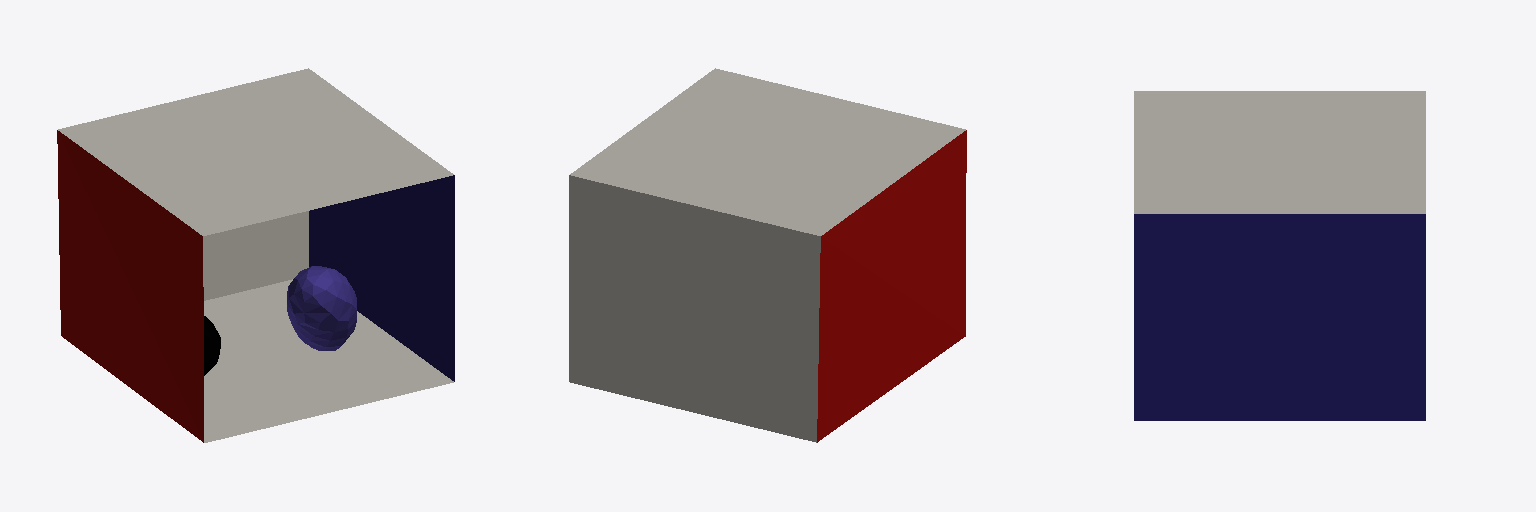
The model's file is CornellBox-Ellipsoid-484.obj.
3 views of the same model, side by side, from view 1: azimuth 30°, elevation 25°; view 2: azimuth 150°, elevation 25°; view 3: azimuth 270°, elevation 25° (orthographic).
Parts seen in each view (by area): view 1: ceiling, leftWall, floor, rightWall, backWall, leftSphere, rightSphere; view 2: backWall, ceiling, leftWall; view 3: rightWall, ceiling.
Boxes of the visible parts, x1,y1,x2,y2 form: ceiling: [58, 68, 453, 235]; leftWall: [57, 130, 203, 442]; floor: [204, 279, 453, 442]; rightWall: [309, 175, 454, 381]; backWall: [203, 211, 308, 300]; leftSphere: [287, 266, 356, 350]; rightSphere: [204, 316, 220, 375]; backWall: [569, 175, 820, 442]; ceiling: [570, 68, 965, 235]; leftWall: [817, 130, 966, 442]; rightWall: [1134, 214, 1425, 420]; ceiling: [1134, 91, 1425, 213].
Size of the model in its own units: 2.02 by 1.59 by 2.03.